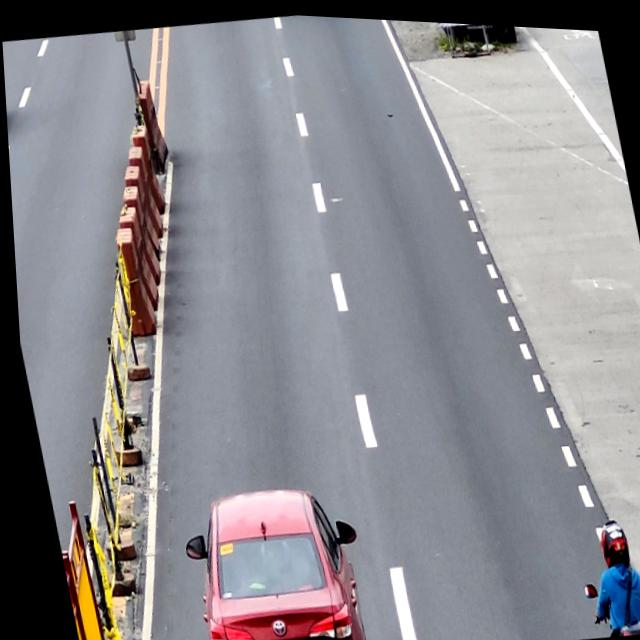Car: (167, 470, 373, 640)
License-Plate: (256, 639, 298, 640)
